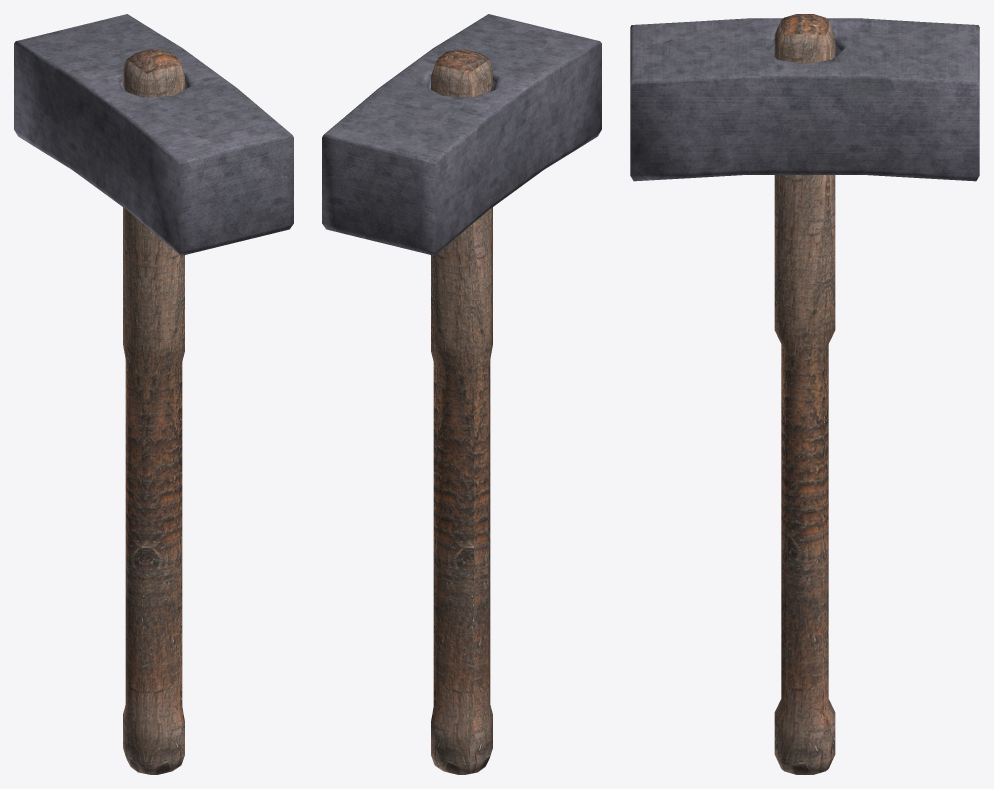
The model's file is mallet.fbx.
3 views of the same model, side by side, from view 1: azimuth 30°, elevation 25°; view 2: azimuth 150°, elevation 25°; view 3: azimuth 270°, elevation 25° (orthographic). The views are drawn at different scales.
Parts seen in each view (by area): view 1: HammerHead, mallet; view 2: HammerHead, mallet; view 3: HammerHead, mallet.
Boxes of the visible parts, x1,y1,x2,y2 form: HammerHead: (14,14,293,255); mallet: (123,49,184,774); HammerHead: (322,14,601,255); mallet: (431,49,492,774); HammerHead: (630,18,979,181); mallet: (774,14,835,774).
Bounding box in the file's own units: 5.96 × 35.86 × 15.08.
2 materials, 2 textured.
